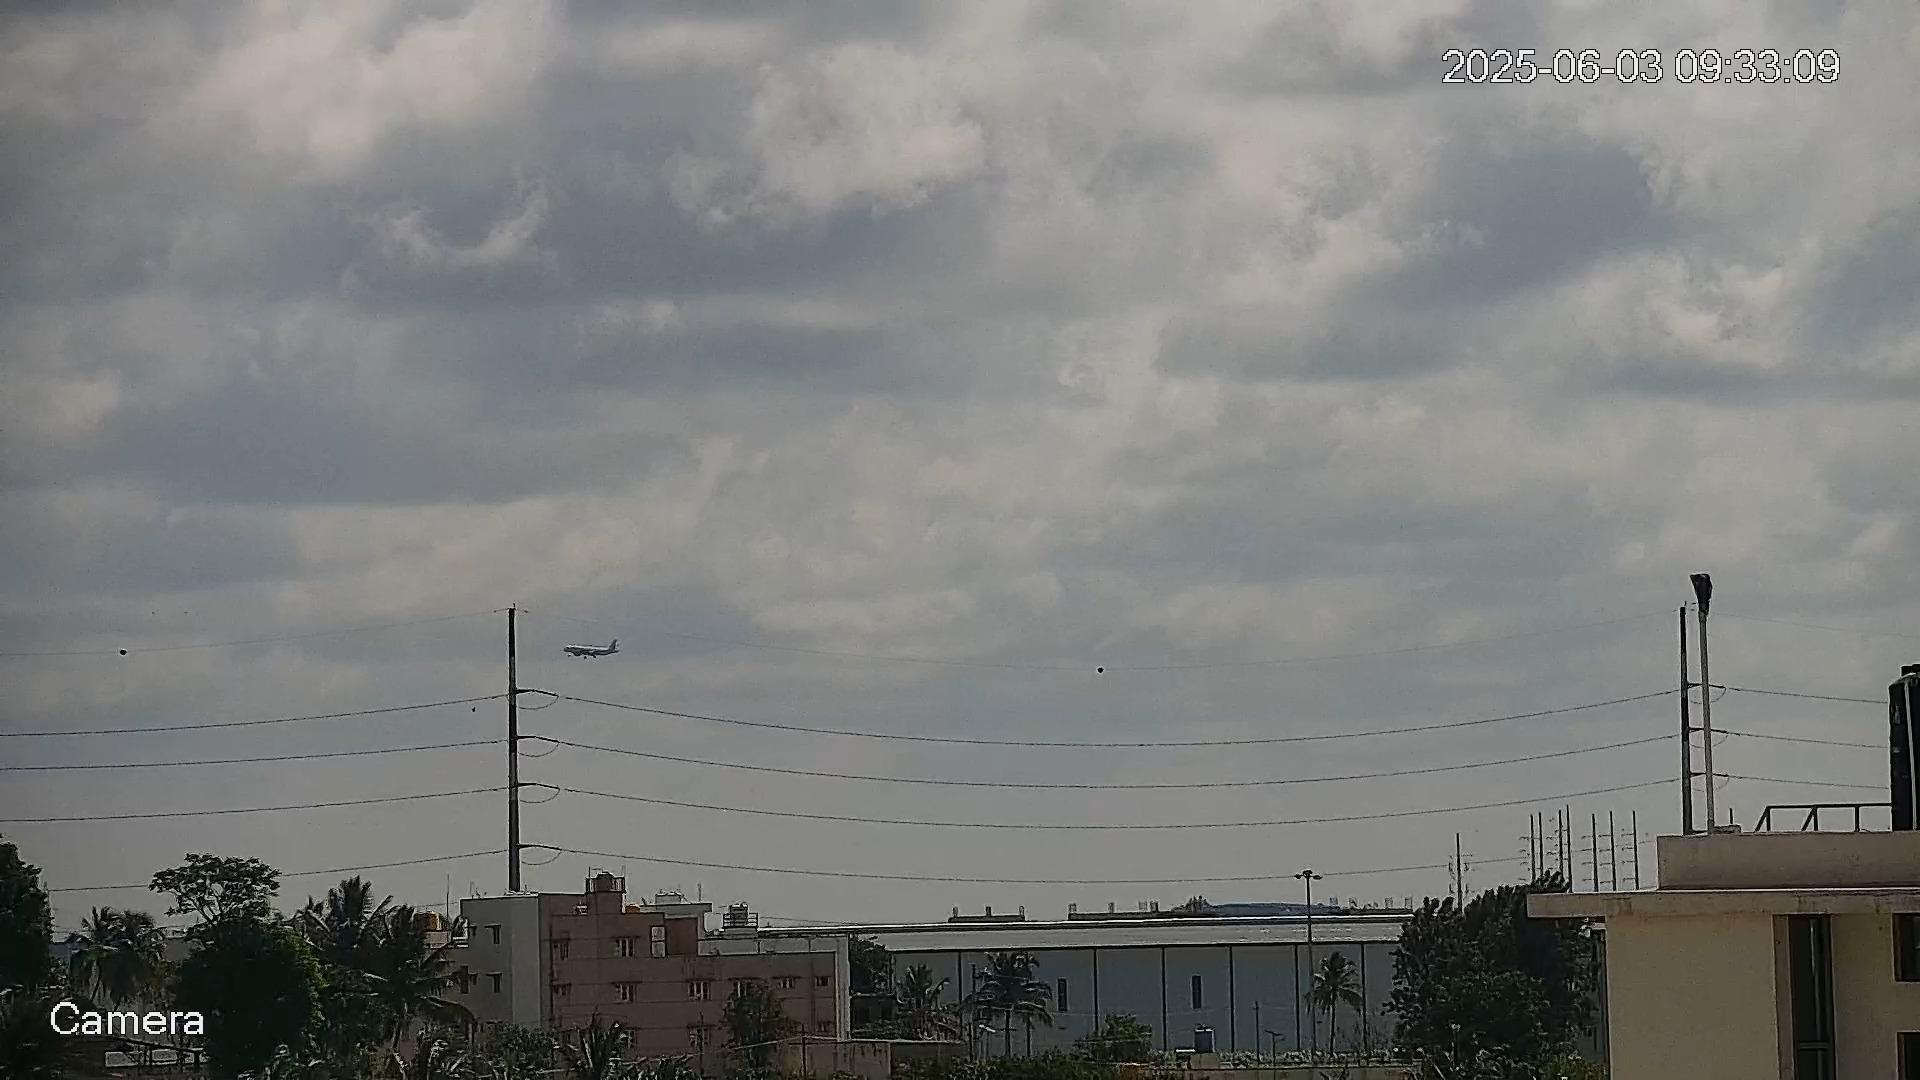Aircraft: (562, 640, 622, 659)
